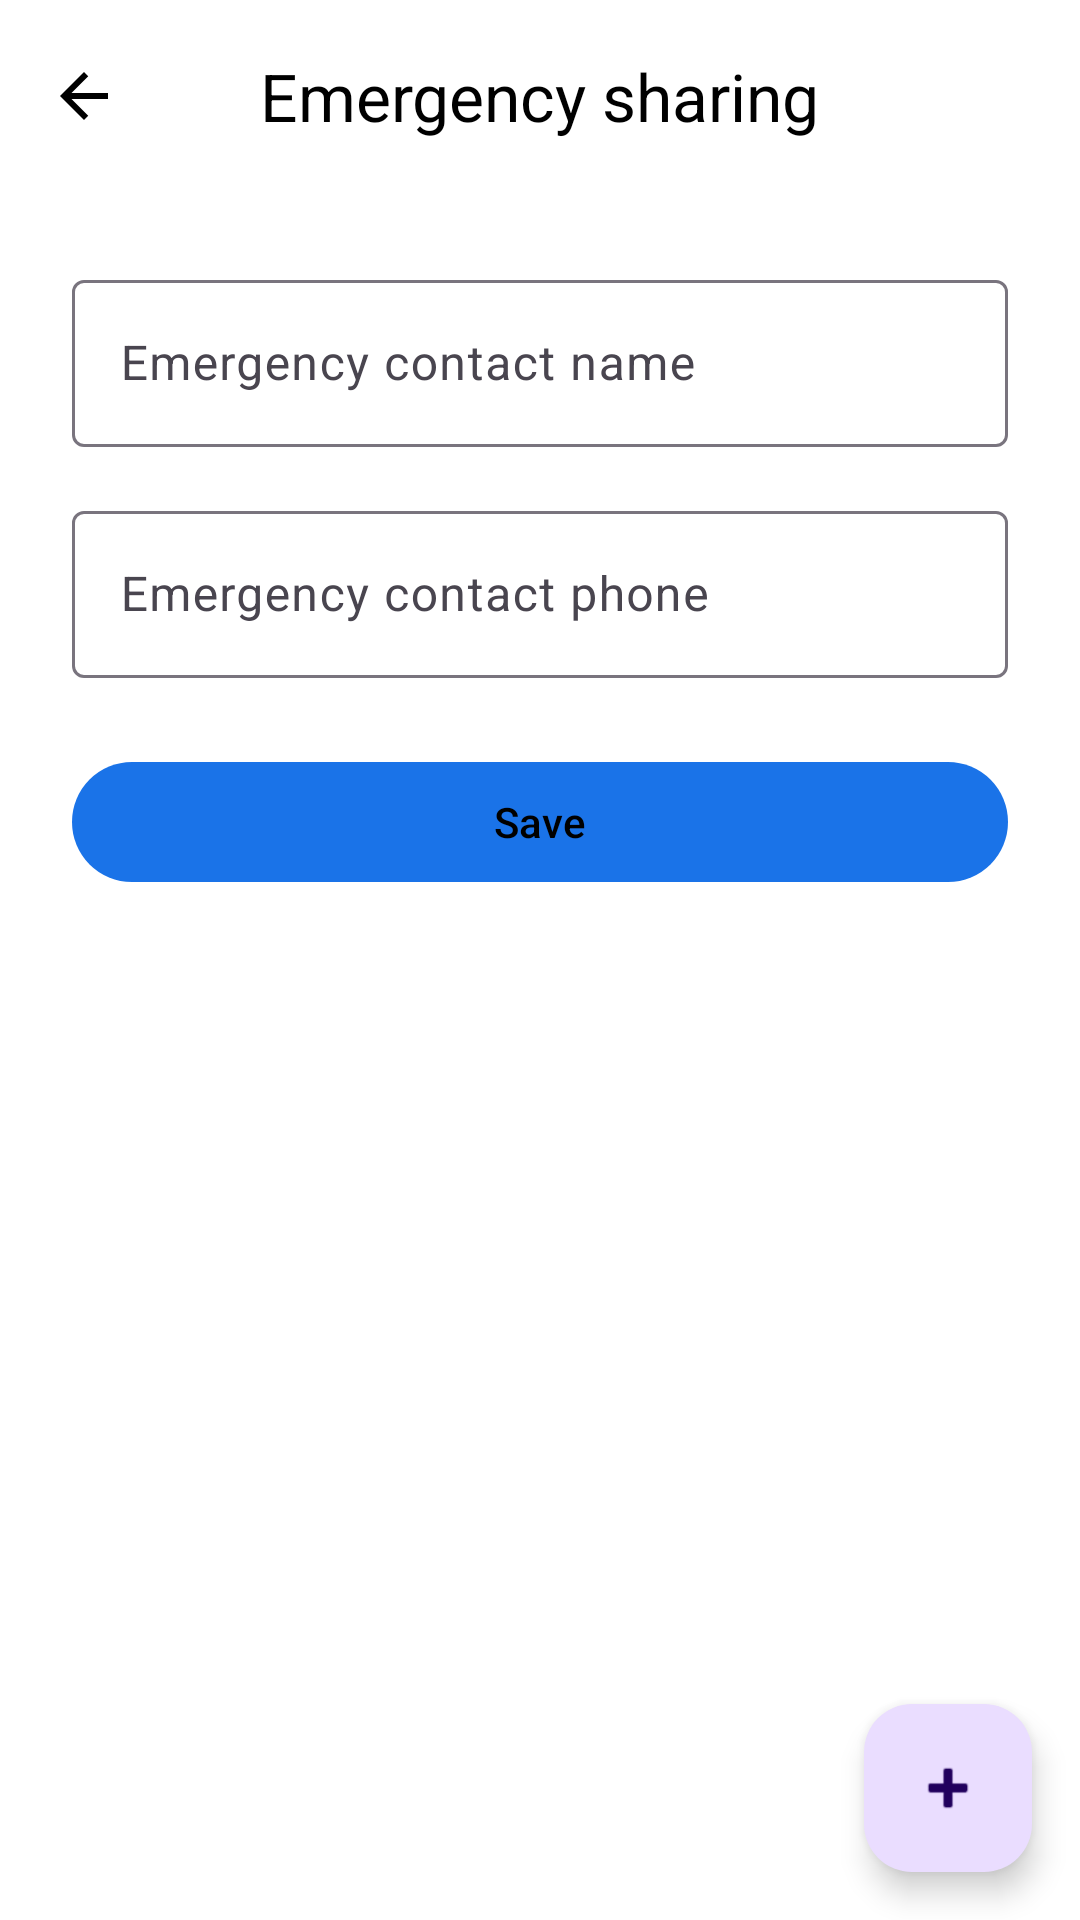

Named icons in this screenshot (1080×1920) and their bounding boxes, bbox=[x1, y1, x2, y2]:
Add Contact: bbox=[864, 1704, 1032, 1872]
